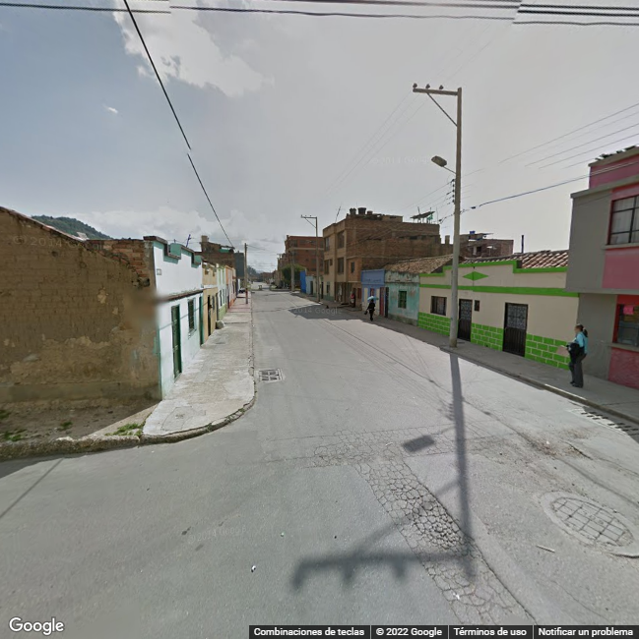D00: (394, 450, 536, 618), (353, 453, 459, 625)
D10: (274, 416, 480, 438)
D20: (354, 441, 473, 543)
